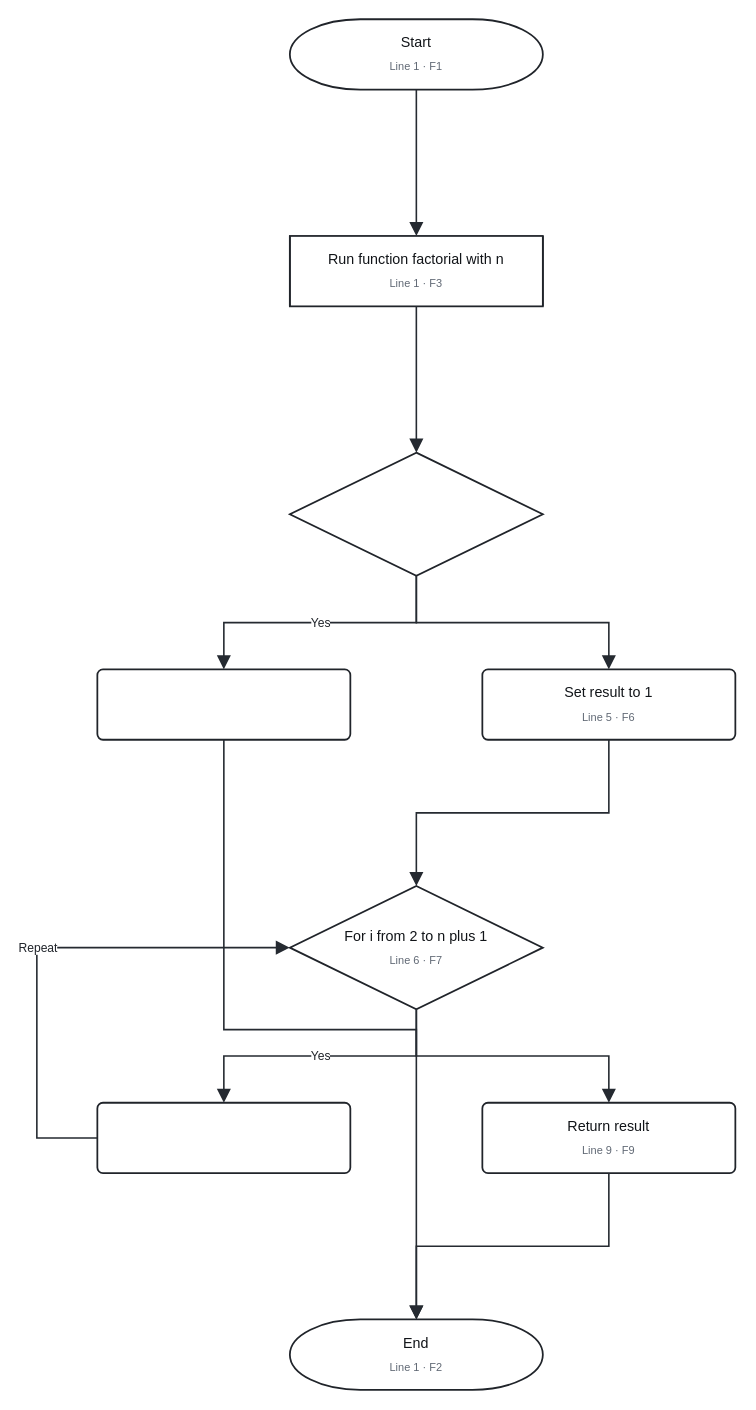
The diagram is 756 pixels wide and 1410 high, and some of its shapes have lost their labels. Here are the shapes that lost their labels. From the top down, the centre of each, then its label:
At point (415, 513): "Is n is equal to 0 or n is equal to 1 true? Line 2 · F4".
At point (223, 704): "Return 1 Line 3 · F5".
At point (223, 1137): "Set result to result multiplied by i Line 7 · F8".
